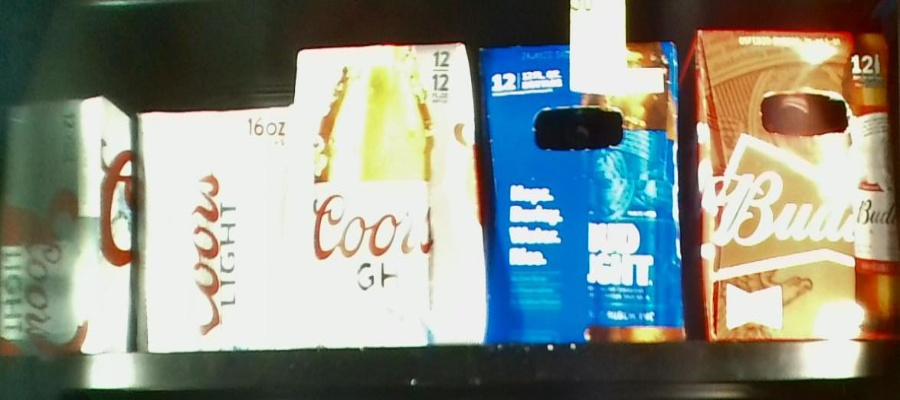bottle: (695, 33, 897, 341), (487, 40, 680, 341), (297, 45, 480, 349), (136, 103, 292, 352), (1, 101, 137, 355)
